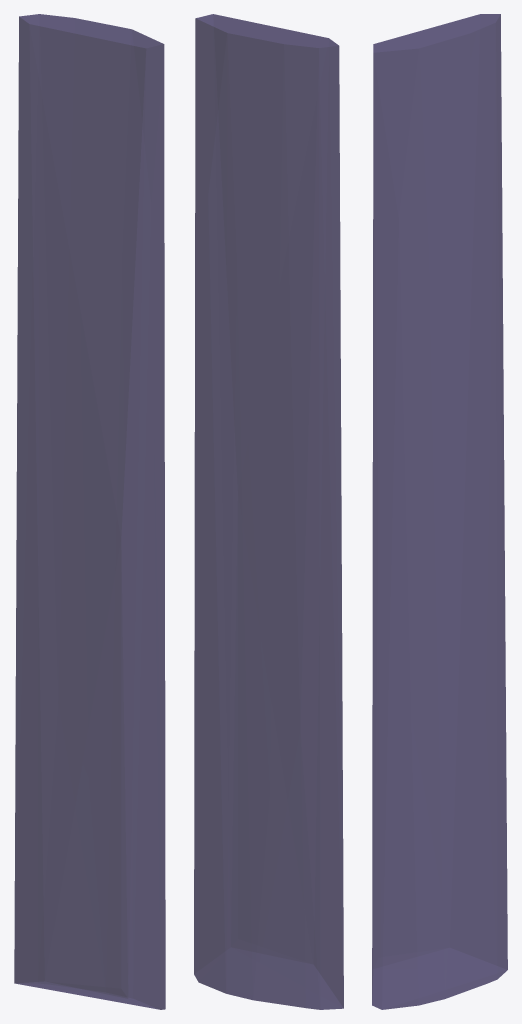
3 renders of one model, left to right at view 1: azimuth 30°, elevation 25°; view 2: azimuth 210°, elevation 25°; view 3: azimuth 270°, elevation 25°, orthographic.
Parts seen in each view (by area): view 1: Shape_IndexedFaceSet.050_Shape_IndexedFaceSet.10453; view 2: Shape_IndexedFaceSet.050_Shape_IndexedFaceSet.10453; view 3: Shape_IndexedFaceSet.050_Shape_IndexedFaceSet.10453.
Part boxes in pixels (x1=…): Shape_IndexedFaceSet.050_Shape_IndexedFaceSet.10453: x1=14, y1=14, x2=165, y2=1009; Shape_IndexedFaceSet.050_Shape_IndexedFaceSet.10453: x1=194, y1=14, x2=343, y2=1009; Shape_IndexedFaceSet.050_Shape_IndexedFaceSet.10453: x1=372, y1=14, x2=507, y2=1009.
Bounding box in the file's own units: 0.0944 × 1.06 × 0.1357.
